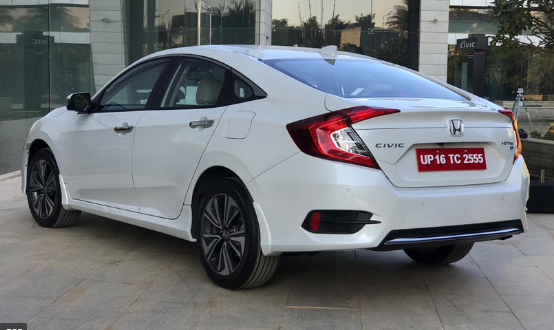car: (16, 42, 533, 294)
